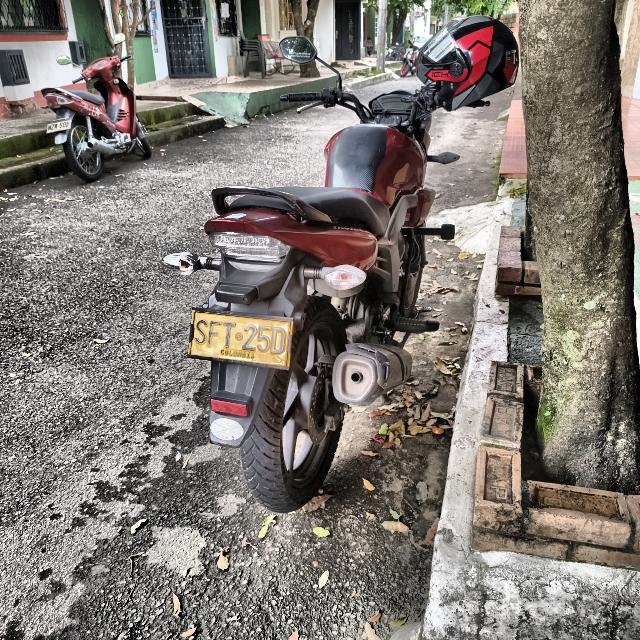plate: (188, 309, 291, 368)
